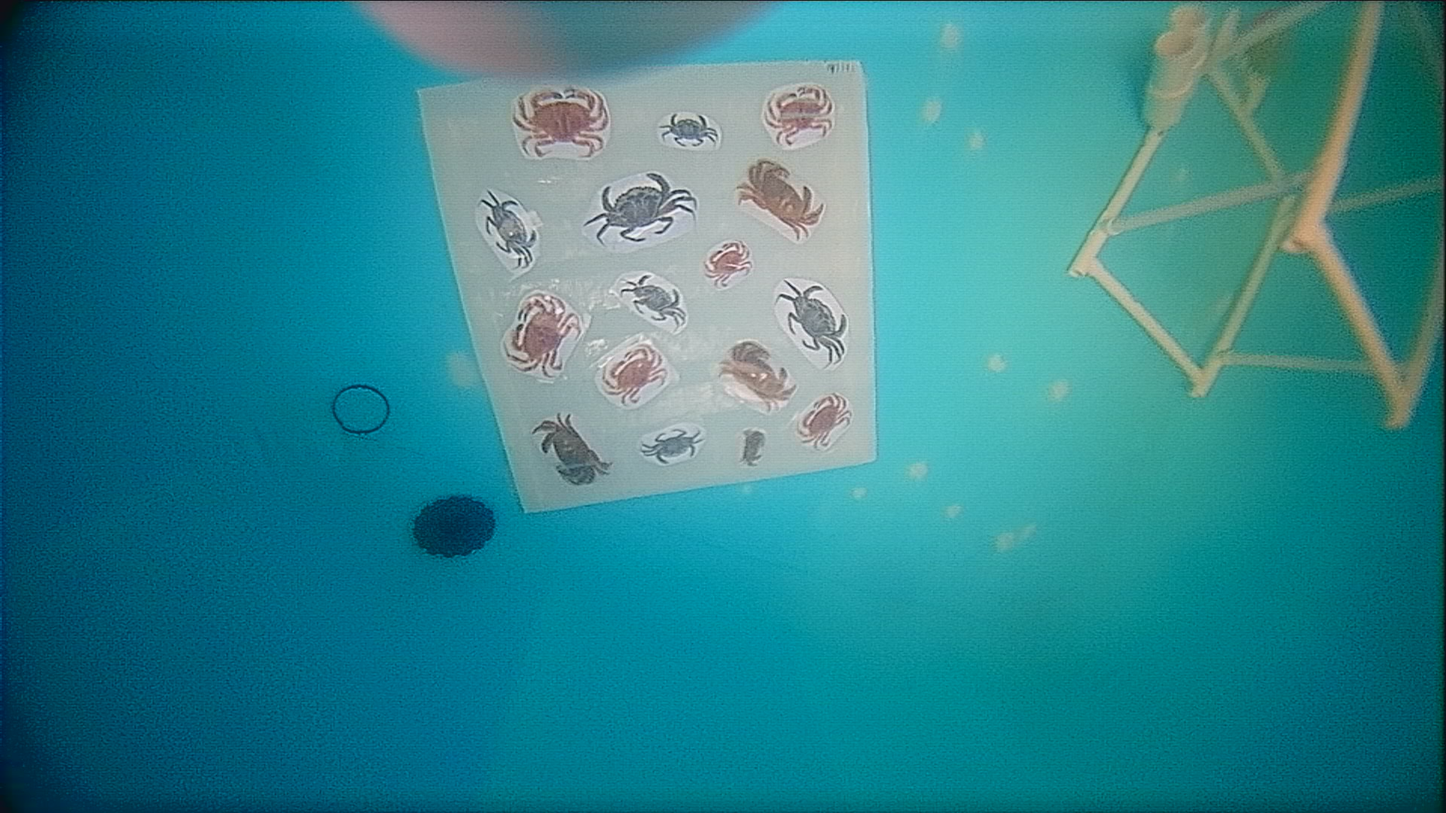GreenCrab: (584, 173, 696, 242), (778, 280, 846, 364), (479, 191, 536, 268), (622, 274, 685, 327), (641, 428, 701, 464), (660, 114, 717, 145)
